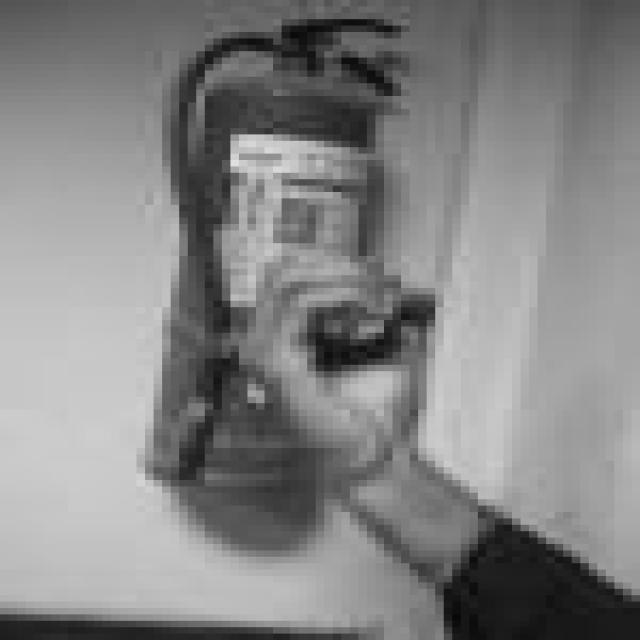O: (243, 237, 448, 467)
